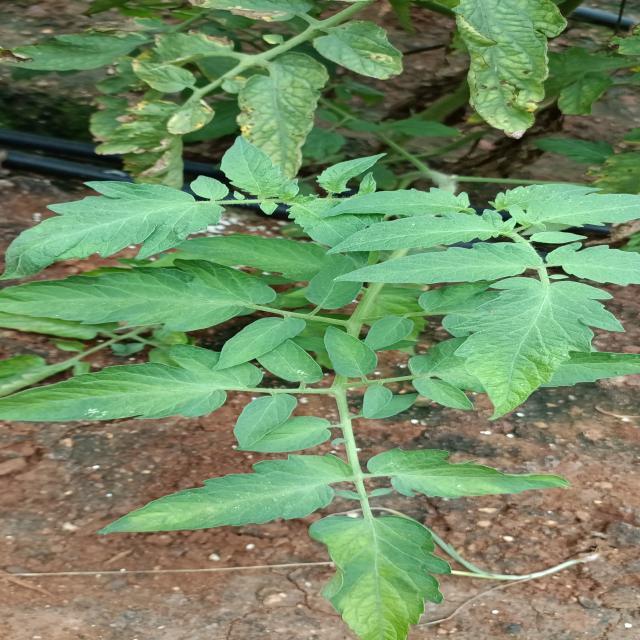Healthy Leaf: (444, 281, 631, 427), (101, 454, 355, 543), (317, 513, 467, 640), (0, 260, 252, 331), (0, 360, 256, 426), (367, 448, 576, 503)
